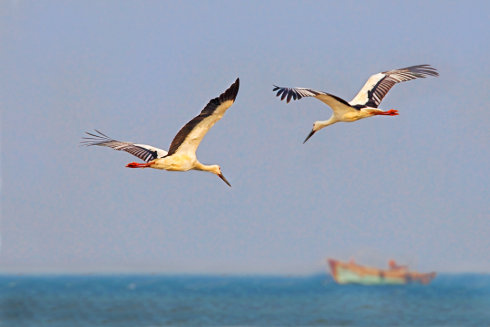bird: (73, 77, 248, 205), (270, 62, 439, 145)
otherboat: (326, 253, 439, 287)
